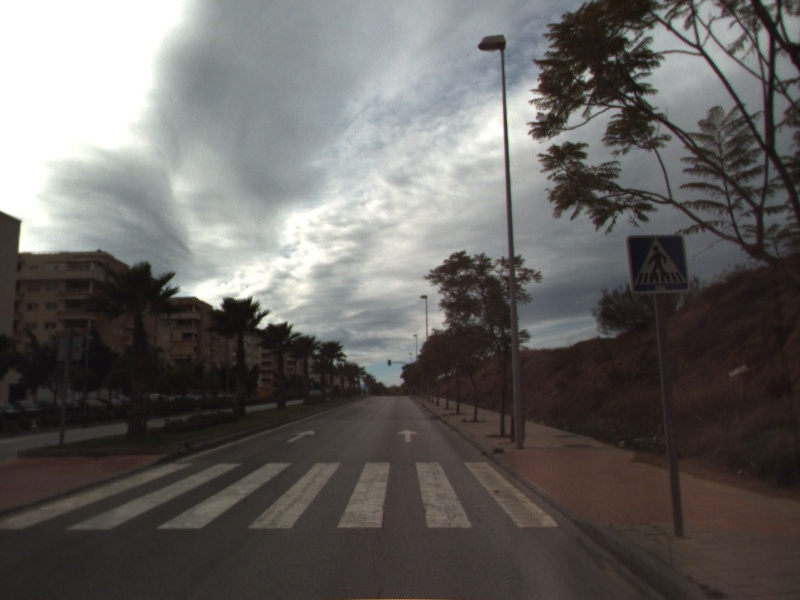STRAIGHT: (284, 427, 317, 444), (396, 427, 420, 444)
